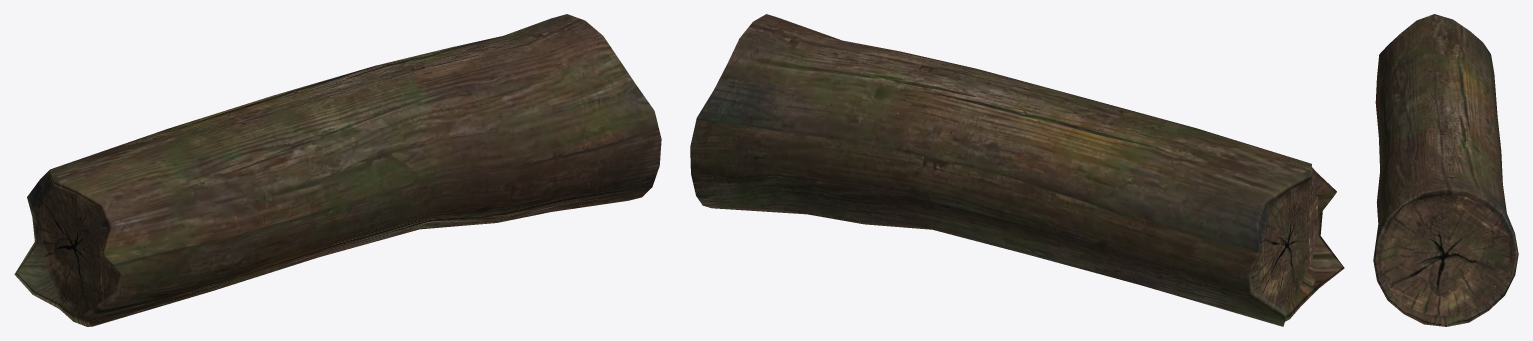
The picture shows the model from 3 angles, left to right: view 1: azimuth 30°, elevation 25°; view 2: azimuth 150°, elevation 25°; view 3: azimuth 270°, elevation 25°; orthographic projection. The views are drawn at different scales.
Visible parts, largest first — view 1: SM_Village_Hitching_Post_02_LOD0; view 2: SM_Village_Hitching_Post_02_LOD0; view 3: SM_Village_Hitching_Post_02_LOD0.
Boxes of the visible parts, x1,y1,x2,y2 form: SM_Village_Hitching_Post_02_LOD0: (14,14,661,326); SM_Village_Hitching_Post_02_LOD0: (690,14,1344,326); SM_Village_Hitching_Post_02_LOD0: (1373,14,1518,326).
Bounding box in the file's own units: 0.9166 × 0.2758 × 0.2796.
Materials: 1 (1 with a texture image).
